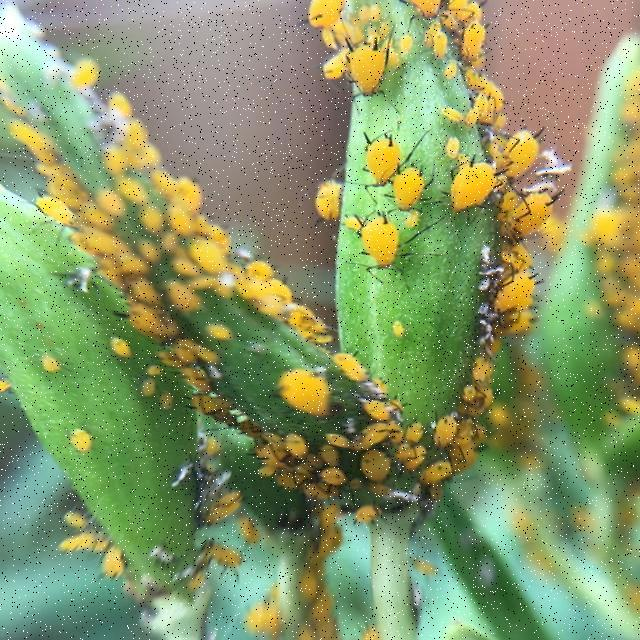Aphids: (260, 356, 354, 430), (325, 207, 407, 285), (354, 112, 413, 196), (443, 148, 504, 215), (312, 180, 367, 235), (385, 165, 440, 219), (320, 347, 379, 394)
